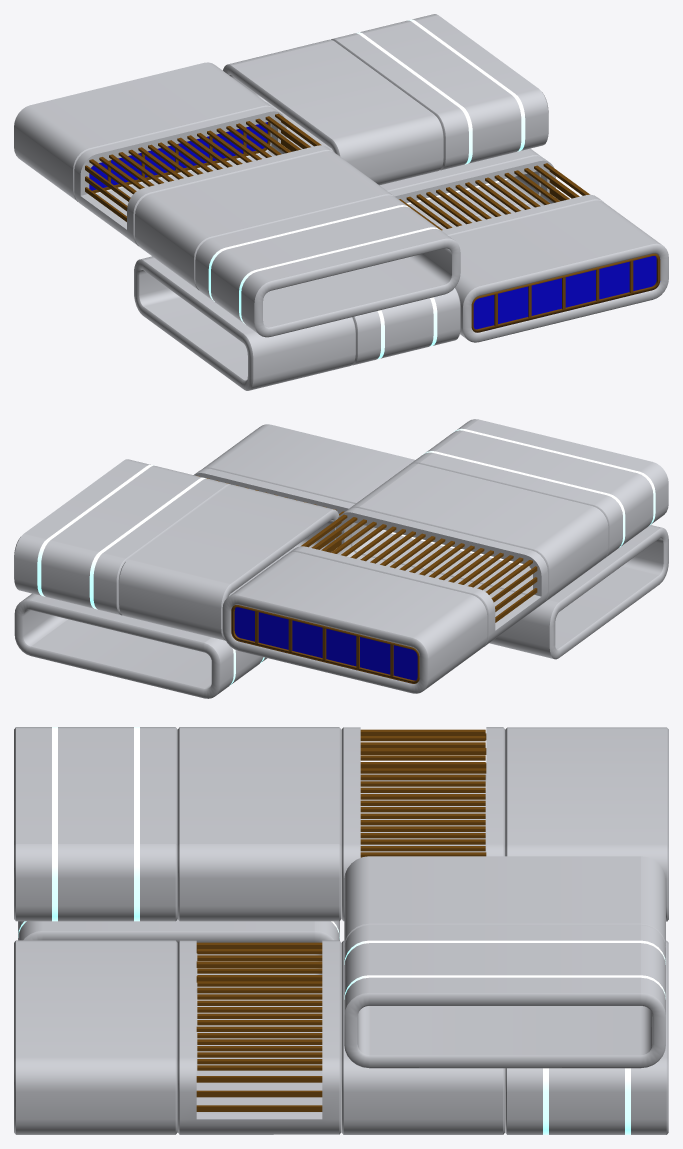
File: SM_B_Abraham_base.fbx
3 renders of one model, top to bottom at view 1: azimuth 30°, elevation 25°; view 2: azimuth 150°, elevation 25°; view 3: azimuth 270°, elevation 25°, orthographic. The views are drawn at different scales.
Parts seen in each view (by area): view 1: SM_B_Abraham_base; view 2: SM_B_Abraham_base; view 3: SM_B_Abraham_base.
Boxes of the visible parts, x1,y1,x2,y2 form: SM_B_Abraham_base: (14, 14, 668, 390); SM_B_Abraham_base: (14, 419, 668, 698); SM_B_Abraham_base: (14, 727, 668, 1134).
Bounding box in the file's own units: 1976 × 505 × 1983.
